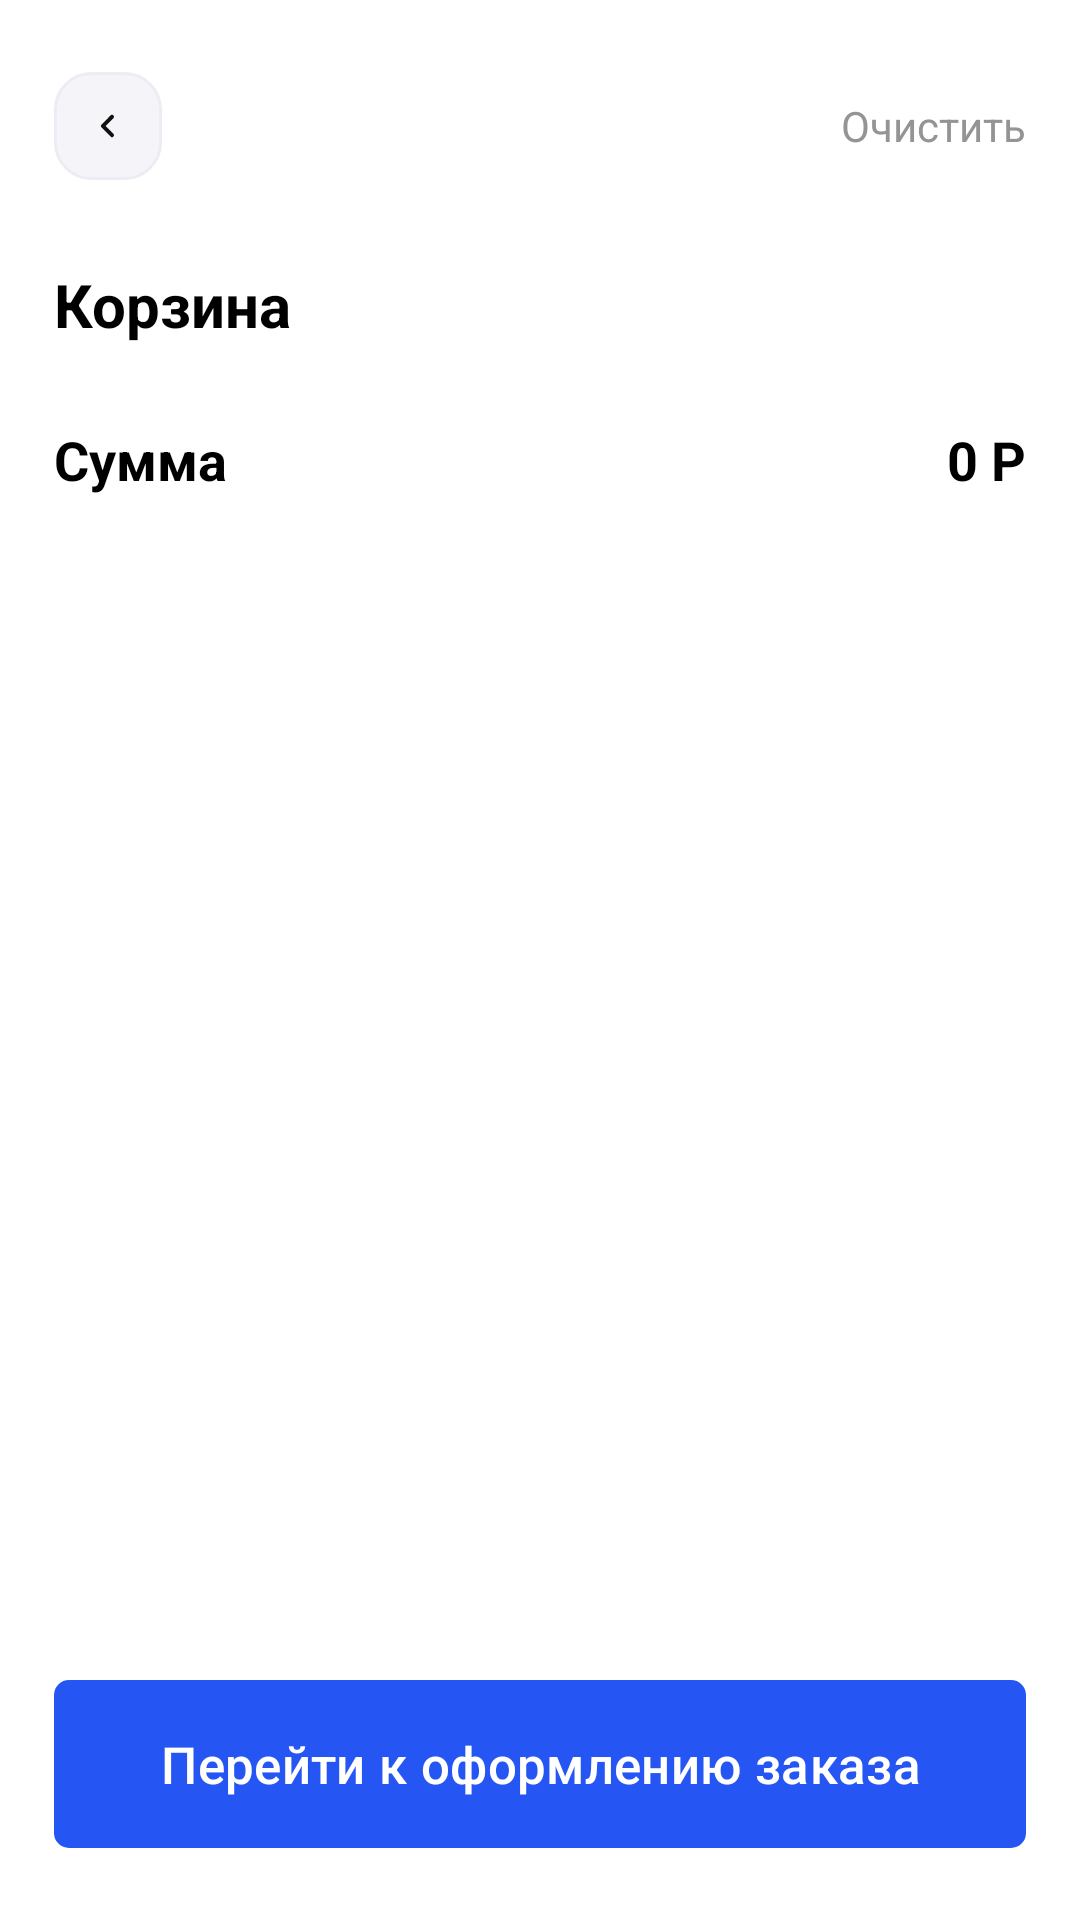

Screen size 1080×1920. Icon name, then its center in pixels as [x,y]:
arrow back left: [108,126]
